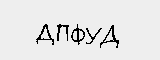Д: (96, 25, 122, 49), (35, 24, 54, 45)
П: (54, 24, 69, 45)
У: (83, 23, 101, 46)
Ф: (69, 24, 85, 46)
